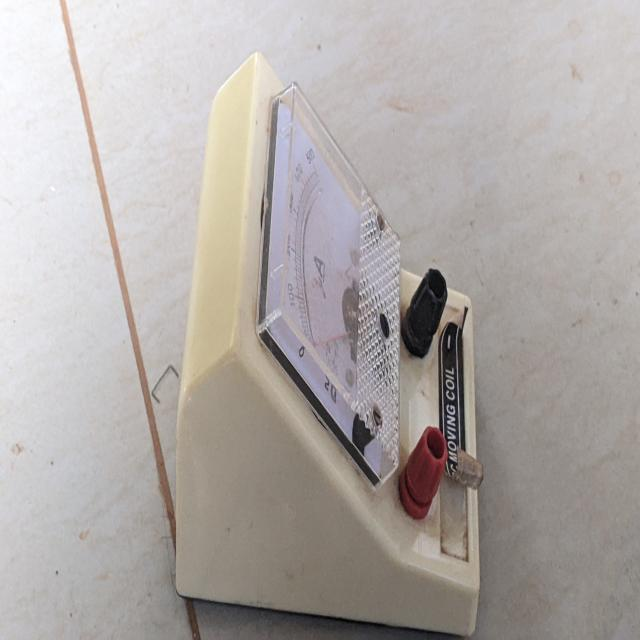Ammeter Analog: (180, 72, 490, 633)
